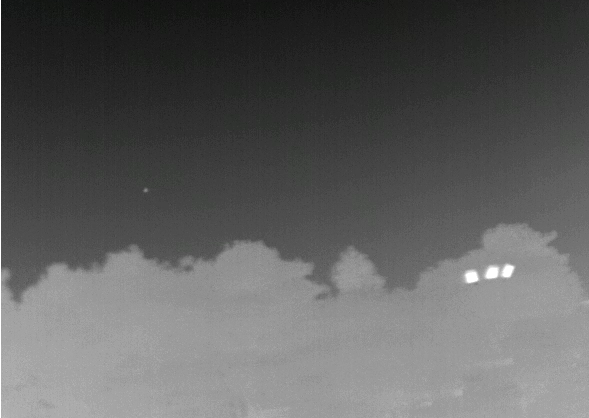dim target: (141, 185, 149, 195)
